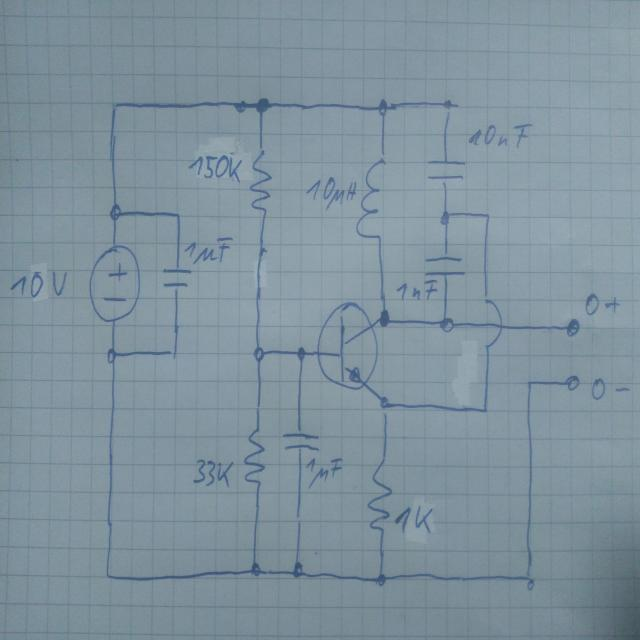capacitor: (421, 252, 469, 279), (424, 155, 470, 182), (281, 428, 322, 452), (160, 266, 193, 290)
crossover: (479, 295, 503, 354)
inductor: (355, 155, 389, 244)
junction: (375, 306, 393, 333), (252, 95, 272, 118), (375, 96, 394, 118), (108, 200, 124, 226), (437, 207, 455, 230), (292, 345, 310, 367), (289, 561, 306, 584), (250, 343, 266, 367), (376, 392, 393, 414), (440, 97, 456, 119), (374, 569, 389, 592), (104, 345, 120, 366), (248, 560, 264, 581), (523, 571, 538, 593), (100, 564, 117, 583), (438, 312, 454, 332), (478, 401, 493, 419), (524, 376, 538, 395), (106, 98, 122, 114), (171, 208, 184, 227), (166, 344, 180, 361), (480, 209, 493, 226)
resistor: (366, 453, 396, 536), (249, 148, 274, 224), (242, 423, 268, 490)
source: (87, 242, 143, 324)
terminal: (562, 314, 581, 340), (563, 373, 582, 396)
text: (468, 120, 534, 152), (9, 267, 68, 302), (305, 175, 358, 208), (187, 153, 243, 184), (184, 234, 234, 267), (191, 456, 235, 491), (305, 453, 344, 490), (394, 504, 434, 536), (590, 376, 632, 404), (395, 278, 441, 302), (584, 290, 622, 318)
transistor: (313, 298, 379, 396)
